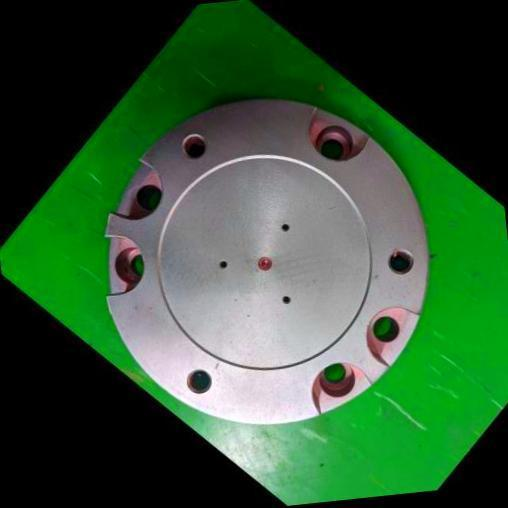hole: (297, 106, 372, 182), (296, 343, 371, 418), (92, 228, 162, 300), (356, 301, 414, 359), (122, 169, 175, 222), (167, 121, 216, 170), (175, 358, 223, 406), (376, 237, 423, 285), (211, 253, 232, 274), (274, 216, 294, 236), (276, 290, 295, 309)
